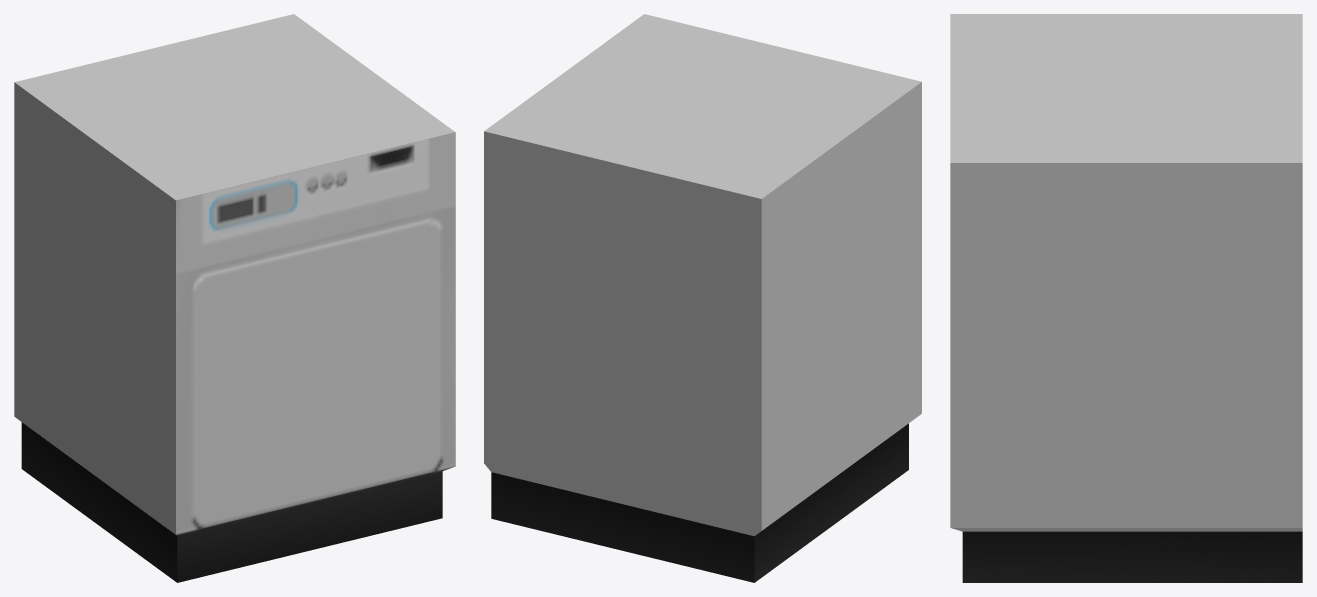
File: DishWasher.fbx
3 renders of one model, left to right at view 1: azimuth 30°, elevation 25°; view 2: azimuth 150°, elevation 25°; view 3: azimuth 270°, elevation 25°, orthographic. The views are drawn at different scales.
Visible parts, largest first — view 1: Maya_File_Assets:TexturedAssetsCurrent:DishWahser; view 2: Maya_File_Assets:TexturedAssetsCurrent:DishWahser; view 3: Maya_File_Assets:TexturedAssetsCurrent:DishWahser.
Part boxes in pixels (bbox=[...]): Maya_File_Assets:TexturedAssetsCurrent:DishWahser: bbox=[14, 14, 455, 582]; Maya_File_Assets:TexturedAssetsCurrent:DishWahser: bbox=[484, 14, 921, 582]; Maya_File_Assets:TexturedAssetsCurrent:DishWahser: bbox=[950, 14, 1302, 582].
Bounding box in the file's own units: 0.7492 × 0.9943 × 0.7492.
